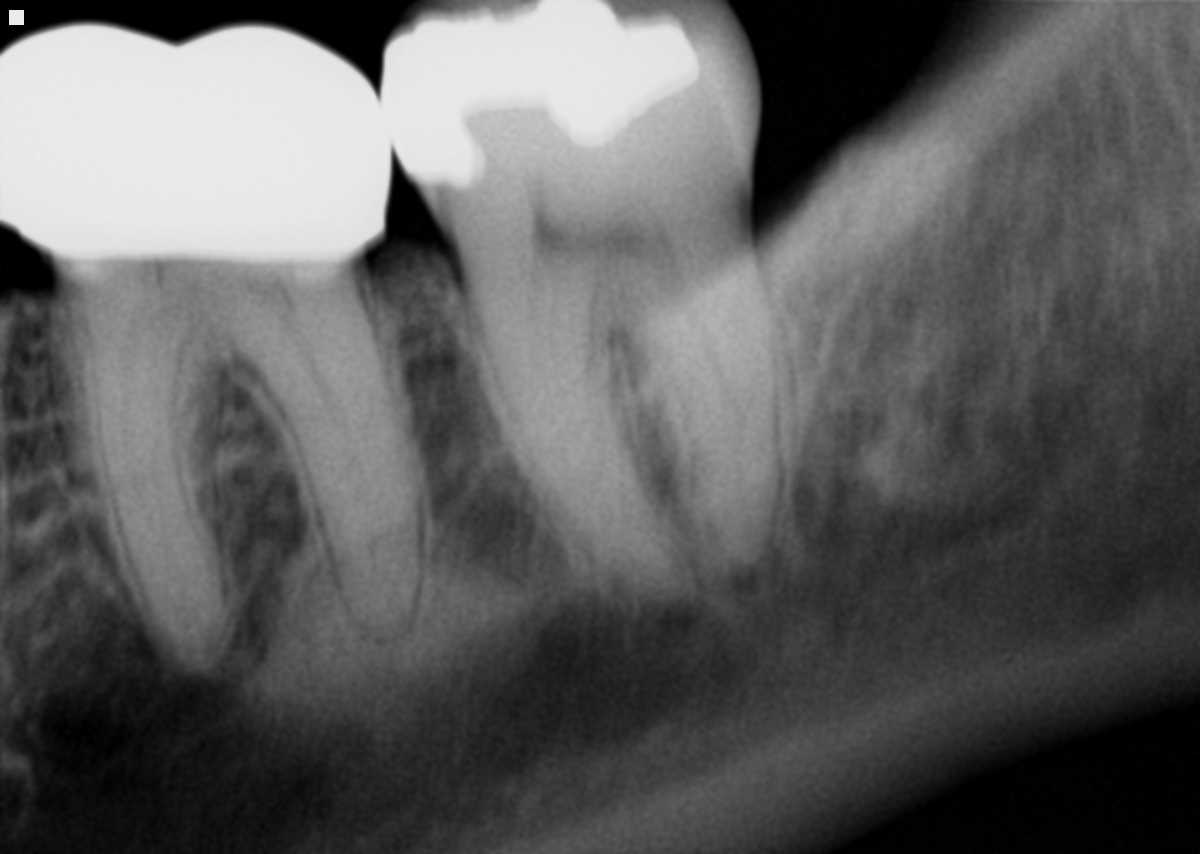Distal Canal: (243, 281, 374, 515), (652, 249, 755, 539)
Distal Root: (210, 270, 425, 649), (612, 211, 781, 593)
Mesial Canal: (118, 298, 182, 580)
Mesial Root: (451, 255, 688, 595), (55, 280, 232, 683)
